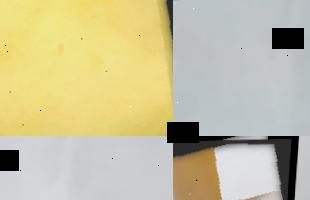PartiallyRipe: (173, 136, 292, 200)
Ripe: (0, 0, 173, 136)
